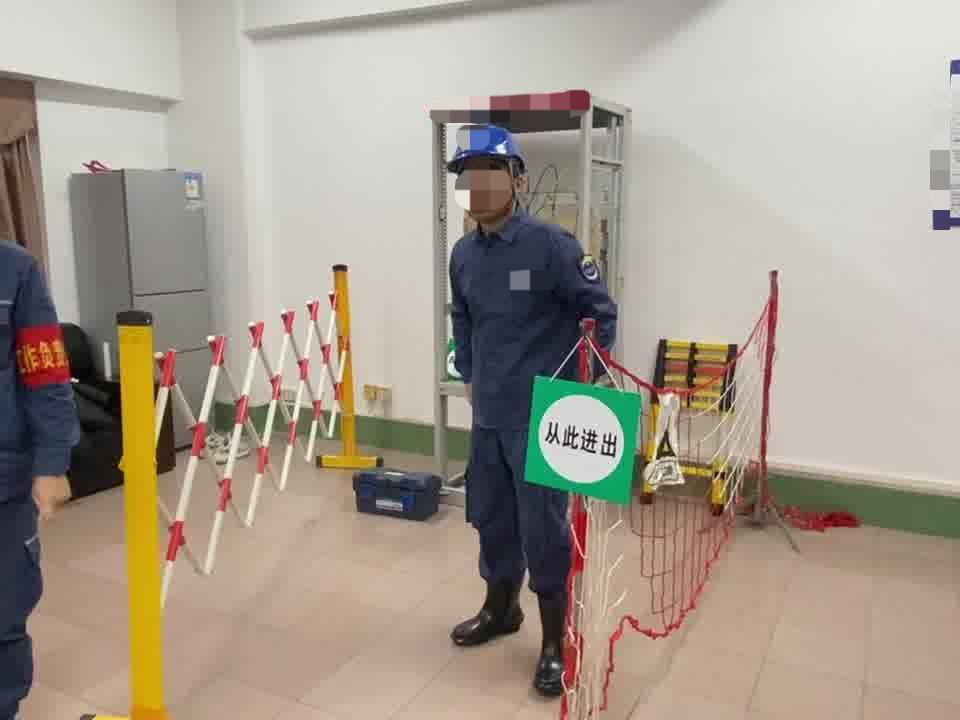halt: (448, 124, 533, 229)
inear: (504, 163, 530, 206)
